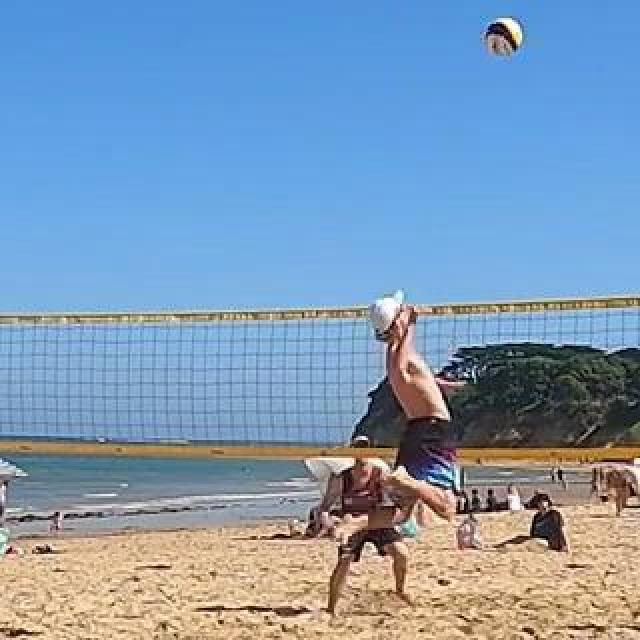volleyball: (486, 18, 522, 54)
